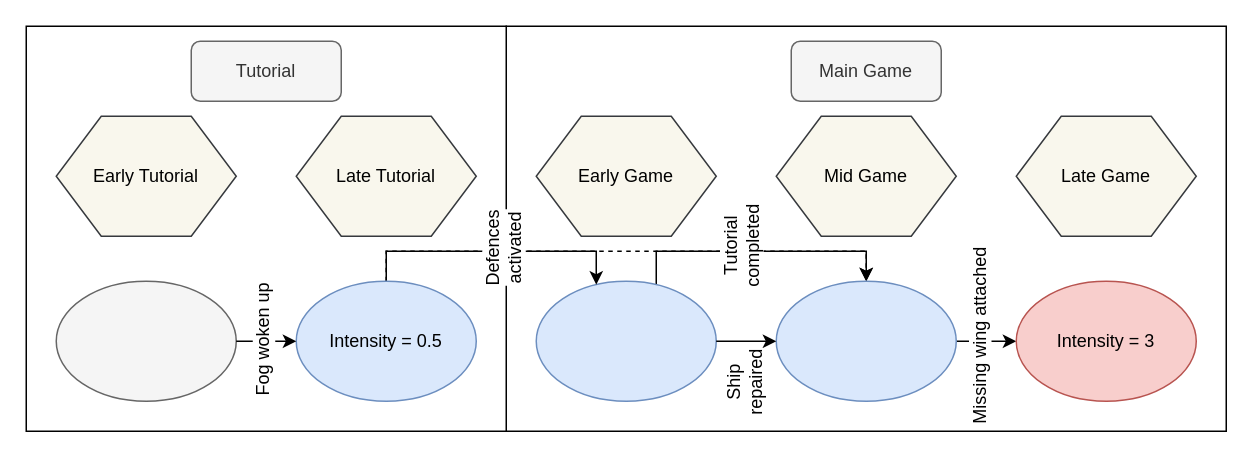
Some shapes in this 1253 by 458 pixel diagram are drawn without their labels. Here are the shapes that lost their labels. From the top down, the box of each, then its label:
(55, 280, 236, 401): Fog Asleep
(535, 280, 716, 401): Intensity = 1
(775, 280, 956, 401): Intensity = 2
